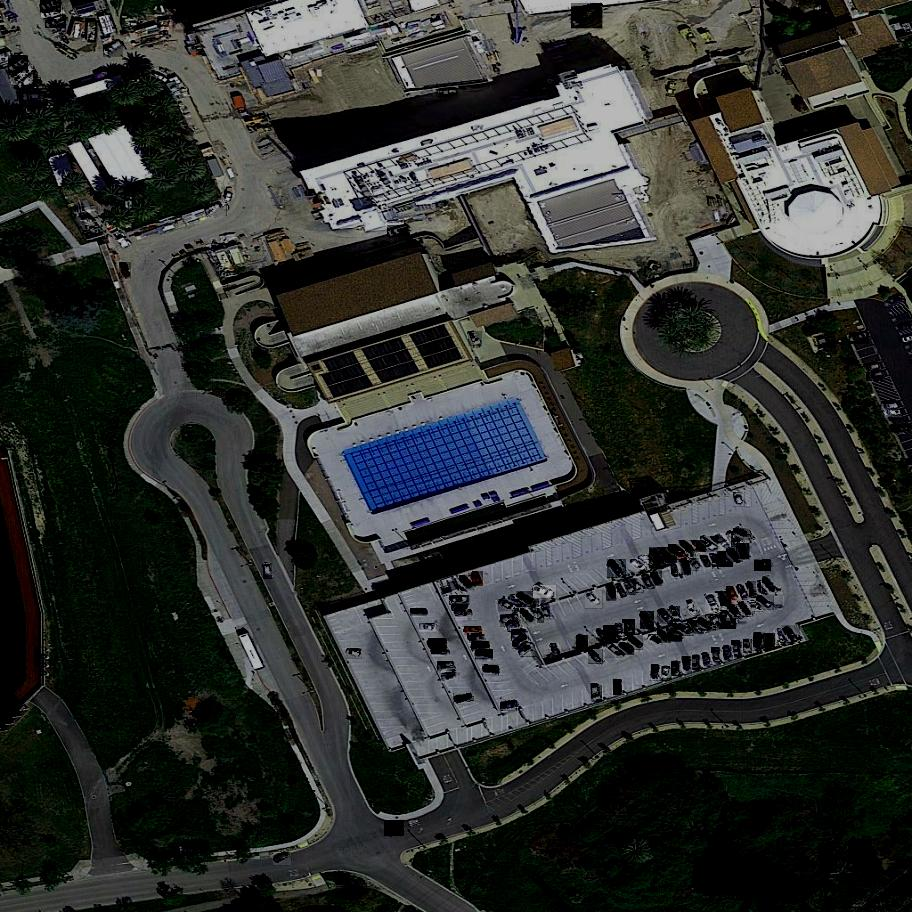large-vehicle: (571, 3, 604, 31), (11, 64, 34, 85), (17, 72, 40, 92), (205, 200, 228, 218), (9, 56, 30, 74), (103, 41, 124, 59), (534, 585, 557, 600), (45, 16, 67, 30), (41, 0, 62, 14), (42, 7, 64, 20), (468, 330, 483, 349), (387, 226, 410, 238), (24, 95, 43, 102)
small-vehicle: (607, 559, 626, 581), (517, 591, 539, 608), (668, 543, 687, 562), (762, 576, 781, 595), (585, 590, 603, 610), (21, 82, 45, 97), (649, 548, 666, 569), (783, 624, 801, 643), (714, 533, 733, 551), (720, 610, 737, 630), (700, 536, 720, 553), (384, 820, 404, 837), (885, 294, 906, 310), (605, 643, 624, 660), (657, 547, 677, 563), (705, 594, 721, 614), (698, 616, 716, 633), (679, 540, 697, 557), (715, 590, 732, 608), (756, 595, 775, 611), (640, 611, 655, 631), (498, 599, 519, 613), (520, 609, 537, 626), (726, 547, 743, 564), (621, 579, 637, 597), (718, 551, 734, 569), (508, 595, 527, 610), (726, 586, 741, 605), (849, 332, 870, 345), (627, 636, 644, 652), (513, 635, 530, 651), (460, 575, 476, 592), (739, 602, 755, 619), (595, 628, 610, 646), (753, 632, 767, 651), (500, 614, 519, 628), (736, 542, 750, 561), (629, 577, 645, 593), (520, 642, 535, 659), (668, 625, 683, 642), (687, 620, 704, 635), (728, 603, 743, 620), (763, 634, 777, 652), (650, 664, 664, 682), (273, 853, 291, 867), (699, 555, 713, 573), (613, 581, 627, 599), (755, 560, 774, 573), (733, 528, 752, 541), (658, 609, 673, 625), (640, 555, 656, 570), (630, 559, 646, 574), (454, 694, 474, 706), (618, 642, 635, 656), (727, 531, 741, 548), (650, 569, 664, 586), (623, 618, 636, 636), (482, 664, 500, 677), (442, 671, 460, 684), (603, 625, 616, 643), (737, 583, 750, 601), (707, 615, 726, 627), (657, 628, 672, 643), (589, 650, 603, 666), (512, 629, 528, 643), (692, 540, 708, 554), (687, 599, 700, 616), (642, 574, 655, 591), (471, 642, 491, 653), (677, 624, 695, 636), (346, 648, 364, 660), (576, 634, 588, 652), (475, 650, 494, 661), (532, 609, 545, 625), (722, 645, 734, 662), (119, 262, 131, 279), (681, 657, 693, 674), (450, 595, 470, 605), (428, 639, 448, 649), (453, 610, 473, 620), (733, 493, 746, 508), (701, 652, 713, 668), (748, 600, 764, 612), (437, 662, 456, 672), (890, 424, 911, 433), (669, 606, 680, 623), (672, 660, 683, 677), (591, 685, 602, 702), (472, 571, 483, 588), (691, 559, 704, 573), (419, 624, 437, 634), (711, 648, 722, 664), (648, 635, 664, 646), (776, 628, 786, 645), (681, 559, 691, 576), (607, 584, 617, 601), (507, 622, 522, 633), (731, 641, 741, 657), (863, 363, 879, 373), (671, 563, 681, 579), (710, 553, 719, 570), (883, 411, 902, 419), (662, 666, 672, 681), (264, 563, 273, 579), (866, 373, 884, 381), (747, 581, 755, 598), (692, 655, 701, 670), (616, 622, 625, 637), (550, 643, 559, 658), (431, 648, 447, 656), (757, 581, 766, 595), (501, 703, 516, 711), (543, 605, 551, 620), (465, 627, 482, 634), (468, 635, 485, 642), (452, 604, 468, 611), (614, 680, 621, 695), (882, 404, 898, 410), (744, 640, 751, 652), (411, 609, 425, 615)
